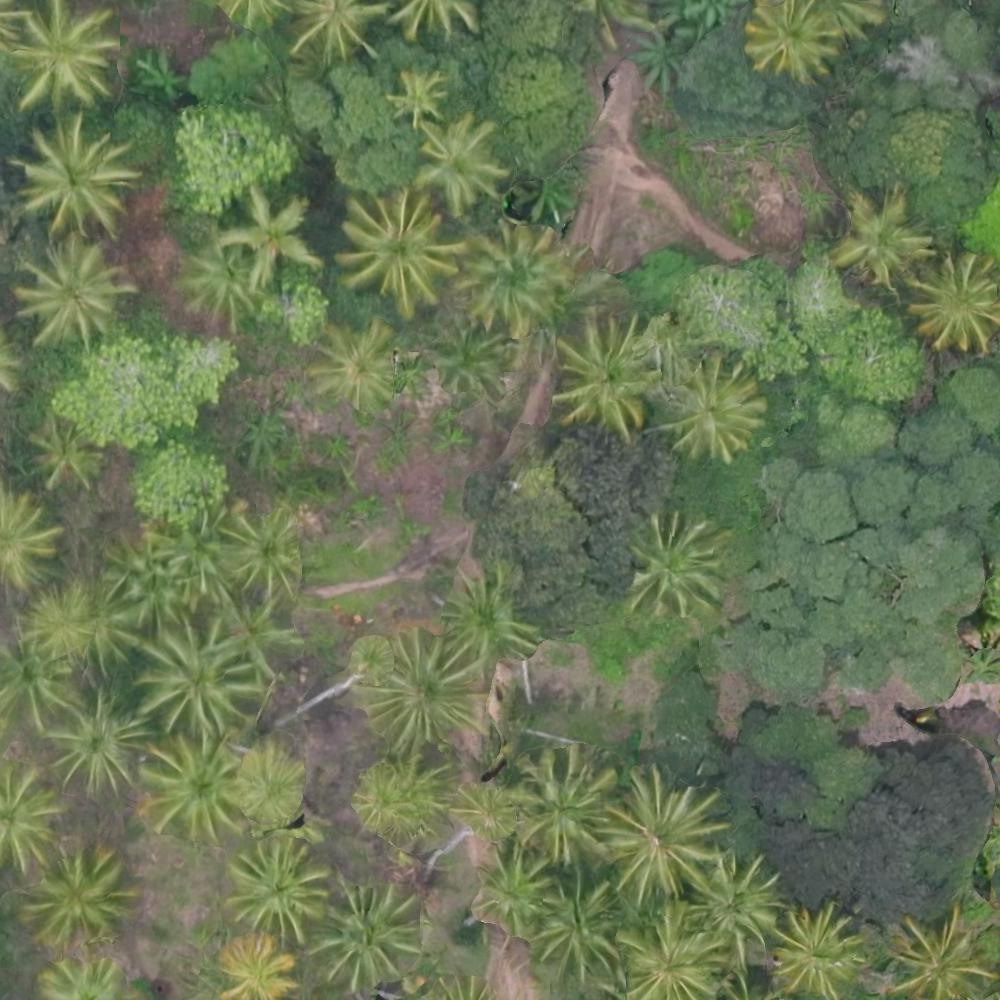Palm: (602, 768, 721, 904), (365, 634, 483, 756), (135, 616, 252, 735), (342, 192, 454, 312), (26, 121, 138, 238), (310, 877, 419, 988), (21, 235, 131, 344), (458, 223, 567, 330), (508, 744, 616, 851), (674, 848, 782, 955), (12, 2, 117, 105), (553, 316, 653, 424), (433, 562, 535, 665), (26, 846, 132, 944), (49, 692, 150, 793), (143, 736, 243, 835), (527, 875, 622, 979), (666, 358, 763, 459), (615, 907, 720, 1000), (886, 912, 992, 1000), (630, 515, 722, 616), (411, 118, 509, 212), (172, 232, 267, 327), (911, 250, 1000, 348), (771, 905, 866, 996), (229, 843, 326, 932), (834, 192, 929, 282), (1, 626, 83, 730), (471, 849, 563, 940), (315, 323, 404, 411), (79, 564, 155, 666), (228, 186, 318, 272), (1, 759, 70, 871), (743, 1, 837, 83), (216, 592, 302, 674), (217, 510, 297, 597), (1, 493, 63, 594), (32, 411, 110, 491), (237, 742, 307, 829), (148, 515, 229, 589), (431, 318, 512, 391), (214, 932, 297, 1000), (354, 762, 435, 831), (294, 1, 381, 65), (28, 583, 94, 652), (453, 784, 522, 843), (388, 65, 451, 125)
